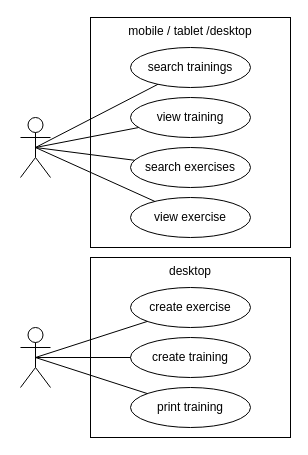
The diagram is 308 pixels wide and 455 high, and some of its shapes have lost their labels. Here are the shapes that lost their labels. From the top down, the centre of each, then its label:
At point 35,147: "junior trainer".
At point 35,357: "senior trainier".
